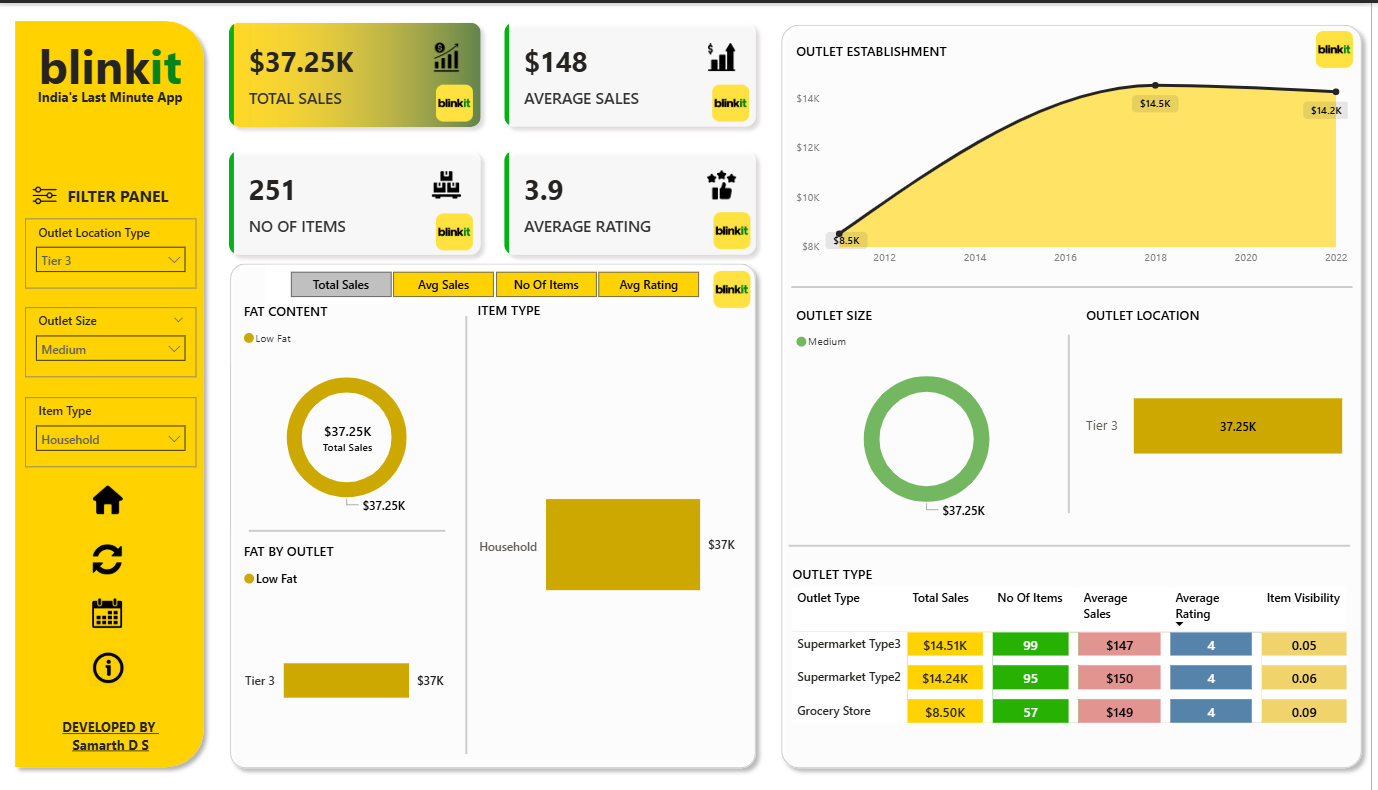

What the dashboard file says about the page in this screenshot:
{"tool":"powerbi","page":{"name":"Home page","canvas":[1400,800],"ordinal":0},"visuals":[{"type":"shape","box":[11.4,6.7,210,777.1],"z":0},{"type":"textbox","box":[34.3,23.4,165.7,75.7],"z":1000},{"type":"textbox","box":[34.3,79.1,165.7,35.7],"z":2000},{"type":"cardVisual","fields":{"Data":["BlinkIT Grocery Data.Total Sales","BlinkIT Grocery Data.Average Sales","BlinkIT Grocery Data.No Of Items","BlinkIT Grocery Data.Average Rating"]},"box":[221.4,0,570,270],"z":3000},{"type":"shape","box":[230,252.9,552.9,531.4],"z":4000},{"type":"donutChart","title":"FAT CONTENT","fields":{"Y":["BlinkIT Grocery Data.Total Sales"],"Category":["BlinkIT Grocery Data.Item Fat Content"]},"box":[248.6,301,220,230],"z":5000},{"type":"slicer","fields":{"Values":["Metrics.Metrics"]},"box":[274.3,263.7,465.7,40],"z":6000},{"type":"cardVisual","fields":{"Data":["BlinkIT Grocery Data.Total Sales"]},"box":[307.1,401.6,102.9,75.7],"z":7000},{"type":"clusteredBarChart","title":"FAT BY OUTLET","fields":{"Y":["BlinkIT Grocery Data.Total Sales"],"Category":["BlinkIT Grocery Data.Outlet Location Type"],"Series":["BlinkIT Grocery Data.Item Fat Content"]},"box":[248.6,545.7,220,230],"z":8000},{"type":"shape","box":[258.6,524.3,200,20],"z":9000},{"type":"shape","box":[472.9,315.7,12.9,445.7],"z":10000},{"type":"barChart","title":"ITEM TYPE","fields":{"Y":["BlinkIT Grocery Data.Total Sales"],"Category":["BlinkIT Grocery Data.Item Type"]},"box":[485.7,300,280,475.7],"z":11000},{"type":"shape","box":[790.9,10,608.6,774.3],"z":12000},{"type":"lineChart","title":"OUTLET ESTABLISHMENT","fields":{"Y":["BlinkIT Grocery Data.Total Sales"],"Category":["BlinkIT Grocery Data.Outlet Establishment Year"]},"box":[810,37.1,571.4,235.7],"z":13000},{"type":"shape","box":[810,271.4,571.4,30],"z":14000},{"type":"donutChart","title":"OUTLET SIZE","fields":{"Y":["BlinkIT Grocery Data.Total Sales"],"Category":["BlinkIT Grocery Data.Outlet Size"]},"box":[810,304.7,275.7,225.7],"z":15000},{"type":"shape","box":[1085.7,334.7,12.9,181.4],"z":16000},{"type":"funnel","title":"OUTLET LOCATION","fields":{"Y":["Sum(BlinkIT Grocery Data.Sales)"],"Category":["BlinkIT Grocery Data.Outlet Location Type"]},"box":[1105.7,304.7,275.7,225.7],"z":17000},{"type":"shape","box":[807.1,534.3,571.4,30],"z":18000},{"type":"pivotTable","title":"OUTLET TYPE","fields":{"Rows":["BlinkIT Grocery Data.Outlet Type"],"Values":["BlinkIT Grocery Data.Total Sales","BlinkIT Grocery Data.No Of Items","BlinkIT Grocery Data.Average Sales","BlinkIT Grocery Data.Average Rating","Avg(BlinkIT Grocery Data.Item Visibility)"]},"box":[805.7,568.6,580,204.3],"z":19000},{"type":"slicer","fields":{"Values":["BlinkIT Grocery Data.Outlet Location Type"]},"box":[30,216.7,174.3,71.4],"z":20000},{"type":"slicer","fields":{"Values":["BlinkIT Grocery Data.Outlet Size"]},"box":[30,306.7,174.3,71.4],"z":21000},{"type":"slicer","fields":{"Values":["BlinkIT Grocery Data.Item Type"]},"box":[30,398.1,174.3,71.4],"z":22000},{"type":"textbox","box":[68.6,176.7,121.4,37.1],"z":23000},{"type":"image","box":[30,168.1,40,50],"z":24000},{"type":"image","box":[81.4,469.6,65.7,65.7],"z":25000},{"type":"image","box":[81.4,542.4,65.7,40],"z":26000},{"type":"image","box":[94.3,598.1,40,40],"z":27000},{"type":"image","box":[90,648.1,50,50],"z":28000},{"type":"textbox","box":[30,720,174.3,55.7],"z":29000},{"type":"image","box":[443.9,71.2,47.1,54.7],"z":30000},{"type":"image","box":[726.2,200.9,47.1,54.7],"z":31000},{"type":"image","box":[443.9,202.2,47.1,54.7],"z":32000},{"type":"image","box":[724.9,71.2,47.1,54.7],"z":33000},{"type":"image","box":[1339.2,16.5,47.1,54.7],"z":34000},{"type":"image","box":[726.2,260.7,47.1,54.7],"z":35000}]}

Visuals, with their boxes in screenshot pixels (x1, y1, x2, y2), scaled from the page's 1400x800 canvas onto the 1378x790 screenshot:
shape: BBox(11, 7, 218, 774)
textbox: BBox(34, 23, 197, 98)
textbox: BBox(34, 78, 197, 113)
cardVisual - BlinkIT Grocery Data.Total Sales x BlinkIT Grocery Data.Average Sales: BBox(218, 0, 779, 267)
shape: BBox(226, 250, 771, 774)
"FAT CONTENT" donutChart: BBox(245, 297, 461, 524)
slicer - Metrics.Metrics: BBox(270, 260, 728, 300)
cardVisual - BlinkIT Grocery Data.Total Sales: BBox(302, 397, 404, 471)
"FAT BY OUTLET" clusteredBarChart: BBox(245, 539, 461, 766)
shape: BBox(255, 518, 451, 537)
shape: BBox(465, 312, 478, 752)
"ITEM TYPE" barChart: BBox(478, 296, 754, 766)
shape: BBox(778, 10, 1377, 774)
"OUTLET ESTABLISHMENT" lineChart: BBox(797, 37, 1360, 269)
shape: BBox(797, 268, 1360, 298)
"OUTLET SIZE" donutChart: BBox(797, 301, 1069, 524)
shape: BBox(1069, 331, 1081, 510)
"OUTLET LOCATION" funnel: BBox(1088, 301, 1360, 524)
shape: BBox(794, 528, 1357, 557)
"OUTLET TYPE" pivotTable: BBox(793, 561, 1364, 763)
slicer - BlinkIT Grocery Data.Outlet Location Type: BBox(30, 214, 201, 284)
slicer - BlinkIT Grocery Data.Outlet Size: BBox(30, 303, 201, 373)
slicer - BlinkIT Grocery Data.Item Type: BBox(30, 393, 201, 464)
textbox: BBox(68, 174, 187, 211)
image: BBox(30, 166, 69, 215)
image: BBox(80, 464, 145, 529)
image: BBox(80, 536, 145, 575)
image: BBox(93, 591, 132, 630)
image: BBox(89, 640, 138, 689)
textbox: BBox(30, 711, 201, 766)
image: BBox(437, 70, 483, 124)
image: BBox(715, 198, 761, 252)
image: BBox(437, 200, 483, 254)
image: BBox(714, 70, 760, 124)
image: BBox(1318, 16, 1365, 70)
image: BBox(715, 257, 761, 311)
